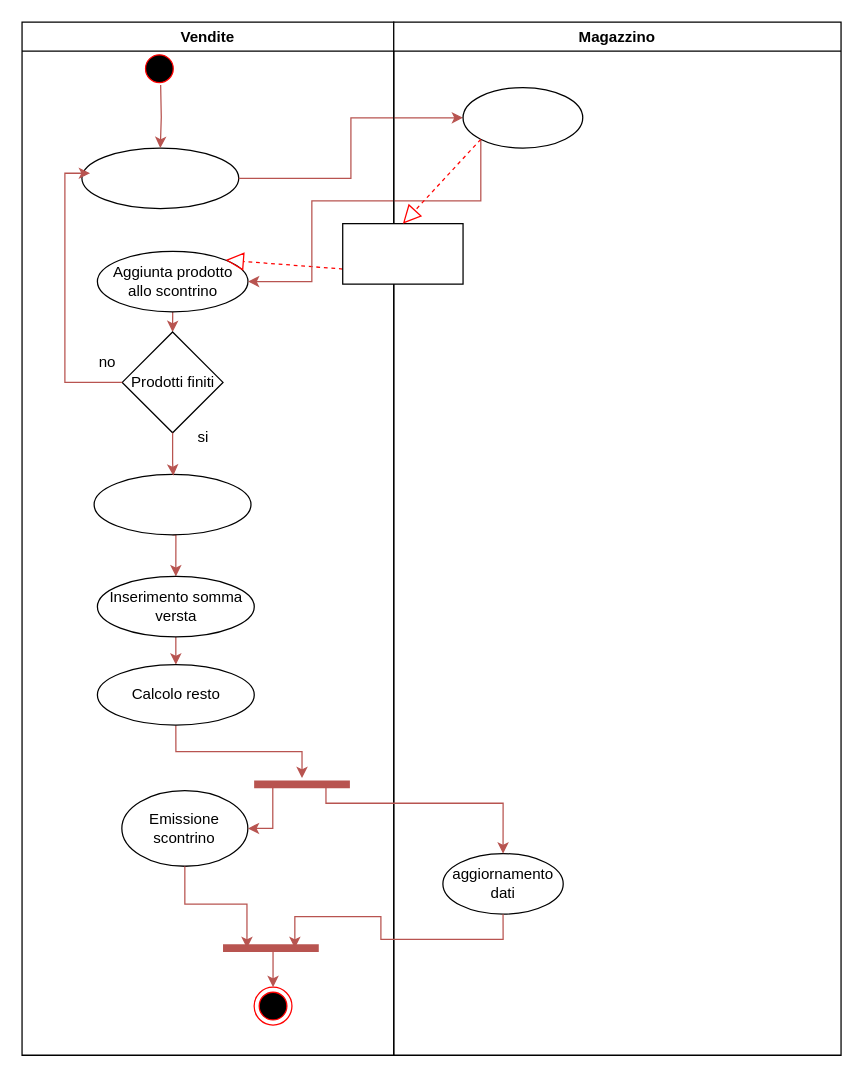
The diagram is 863 pixels wide and 1077 high, and some of its shapes have lost their labels. Here are the shapes that lost their labels. From the top down, the centre of each, then its label:
At point 522,117: "Ottieni prodotti".
At point 160,178: "scannerizzazione prodotti".
At point 402,253: "Prodotti".
At point 172,504: "Calcolo totale".
